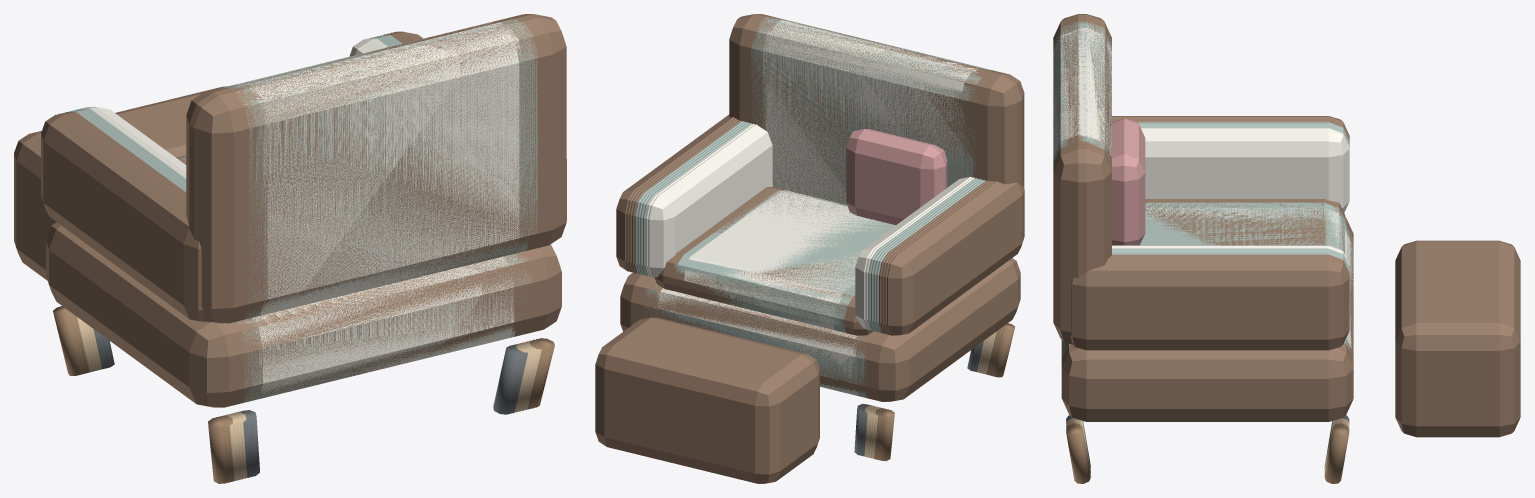
The model's file is Gear11.fbx.
The picture shows the model from 3 angles, left to right: view 1: azimuth 30°, elevation 25°; view 2: azimuth 150°, elevation 25°; view 3: azimuth 270°, elevation 25°; orthographic projection. The views are drawn at different scales.
Visible parts, largest first — view 1: Gear11_V10_Leather, Gear11_V1_Linen, Gear11_V7_Leather, Gear11_V8_Leather, Gear11_V2_Linen, Gear11_V4_Fabric, Gear11_V6_Fabric, Gear11_V9_Leather, Gear11_V3_Fabric, Gear11_V5_Fabric, Gear11_V10_Walnut, Gear11_V1_Charcoal (+8 smaller); view 2: Gear11_V10_Leather, Gear11_V1_Linen, Gear11_V2_Linen, Gear11_V8_Leather, Gear11_V9_Leather, Gear11_V3_Fabric, Gear11_V5_Fabric, Gear11_V6_Fabric, Gear11_V4_Fabric, Gear11_V10_Rose, Gear11_V7_Leather, Gear11_V10_Walnut; view 3: Gear11_V10_Leather, Gear11_V1_Linen, Gear11_V3_Fabric, Gear11_V8_Leather, Gear11_V5_Fabric, Gear11_V10_Rose, Gear11_V2_Linen, Gear11_V6_Fabric, Gear11_V7_Leather, Gear11_V4_Fabric, Gear11_V10_Walnut, Gear11_V9_Leather.
Boxes of the visible parts, <box> form: Gear11_V10_Leather: <box>14,14,566,407</box>; Gear11_V1_Linen: <box>86,22,519,393</box>; Gear11_V7_Leather: <box>65,17,541,404</box>; Gear11_V8_Leather: <box>62,17,545,405</box>; Gear11_V2_Linen: <box>82,22,520,398</box>; Gear11_V4_Fabric: <box>75,22,530,398</box>; Gear11_V6_Fabric: <box>69,18,537,394</box>; Gear11_V9_Leather: <box>32,15,549,405</box>; Gear11_V3_Fabric: <box>79,20,526,397</box>; Gear11_V5_Fabric: <box>72,19,534,402</box>; Gear11_V10_Walnut: <box>53,306,554,483</box>; Gear11_V1_Charcoal: <box>101,335,521,476</box>; Gear11_V10_Leather: <box>595,14,1024,483</box>; Gear11_V1_Linen: <box>648,20,971,381</box>; Gear11_V2_Linen: <box>645,19,977,395</box>; Gear11_V8_Leather: <box>608,15,996,482</box>; Gear11_V9_Leather: <box>606,14,1000,467</box>; Gear11_V3_Fabric: <box>643,20,977,386</box>; Gear11_V5_Fabric: <box>637,19,982,397</box>; Gear11_V6_Fabric: <box>634,17,985,382</box>; Gear11_V4_Fabric: <box>640,18,991,350</box>; Gear11_V10_Rose: <box>846,129,947,225</box>; Gear11_V7_Leather: <box>632,19,996,399</box>; Gear11_V10_Walnut: <box>879,323,1014,460</box>; Gear11_V10_Leather: <box>1053,14,1520,437</box>; Gear11_V1_Linen: <box>1053,29,1352,348</box>; Gear11_V3_Fabric: <box>1053,26,1353,353</box>; Gear11_V8_Leather: <box>1061,18,1520,364</box>; Gear11_V5_Fabric: <box>1053,22,1350,350</box>; Gear11_V10_Rose: <box>1112,118,1145,245</box>; Gear11_V2_Linen: <box>1053,27,1353,344</box>; Gear11_V6_Fabric: <box>1056,21,1353,347</box>; Gear11_V7_Leather: <box>1053,19,1353,362</box>; Gear11_V4_Fabric: <box>1053,24,1353,358</box>; Gear11_V10_Walnut: <box>1066,426,1349,483</box>; Gear11_V9_Leather: <box>1053,16,1520,357</box>.
Bounding box in the file's own units: 90.85 × 88.44 × 112.
